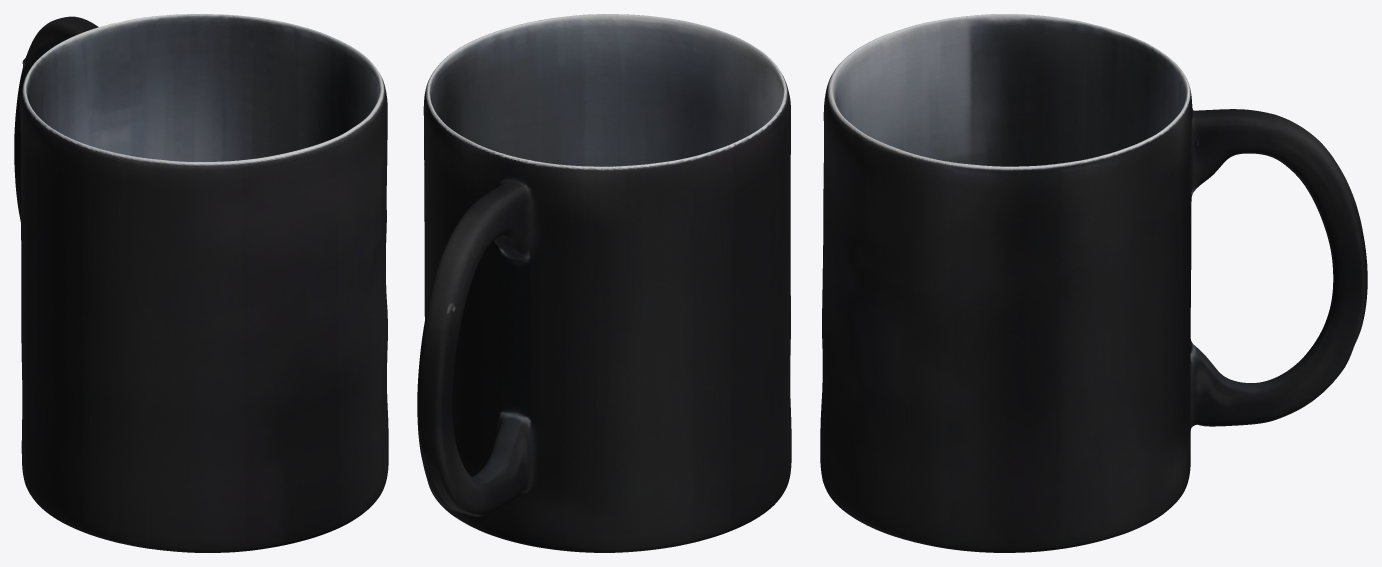
File: mug_origin_texture.glb
The picture shows the model from 3 angles, left to right: view 1: azimuth 30°, elevation 25°; view 2: azimuth 150°, elevation 25°; view 3: azimuth 270°, elevation 25°; orthographic projection.
Parts seen in each view (by area): view 1: tripo_node_632c6421-3847-4074-9ac6-a4ffab1fedfd; view 2: tripo_node_632c6421-3847-4074-9ac6-a4ffab1fedfd; view 3: tripo_node_632c6421-3847-4074-9ac6-a4ffab1fedfd.
Boxes of the visible parts, x1,y1,x2,y2 form: tripo_node_632c6421-3847-4074-9ac6-a4ffab1fedfd: (14,14,388,552); tripo_node_632c6421-3847-4074-9ac6-a4ffab1fedfd: (417,14,791,552); tripo_node_632c6421-3847-4074-9ac6-a4ffab1fedfd: (820,14,1367,552).
Size of the model in its own units: 0.6717 by 0.7915 by 1.
Materials: 1 (1 with a texture image).
